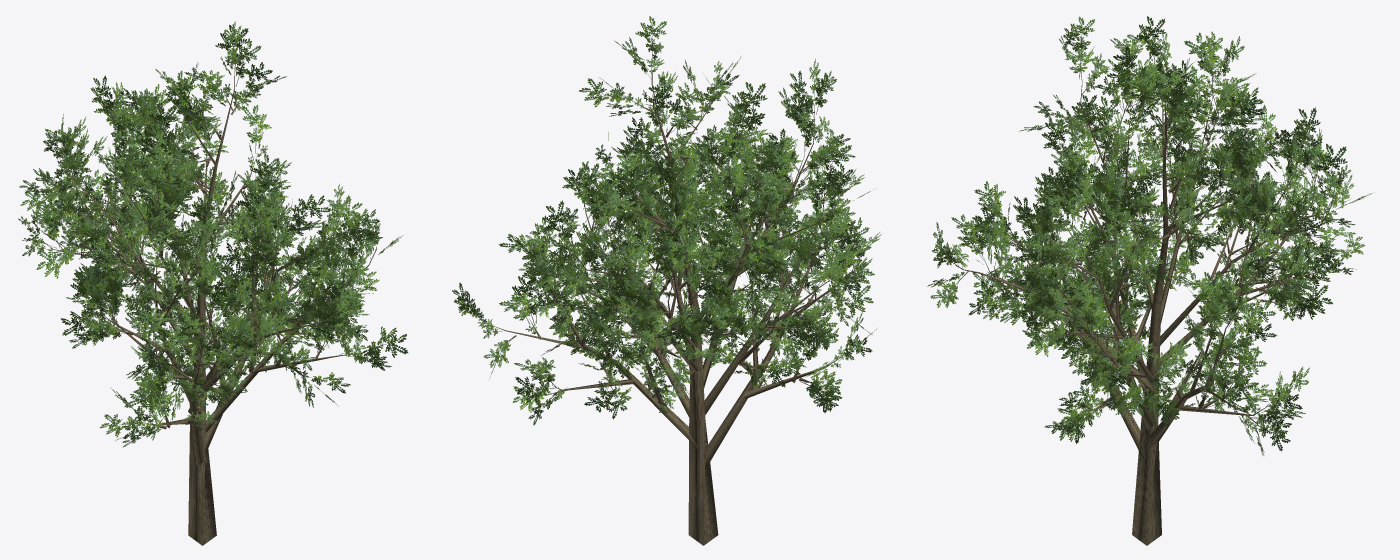
File: tree_LOD2.gltf
3 renders of one model, left to right at view 1: azimuth 30°, elevation 25°; view 2: azimuth 150°, elevation 25°; view 3: azimuth 270°, elevation 25°, orthographic. The views are drawn at different scales.
Visible parts, largest first — view 1: Leaves_LOD2, Branches_LOD2; view 2: Leaves_LOD2, Branches_LOD2; view 3: Leaves_LOD2, Branches_LOD2.
Part boxes in pixels (x1,y1,x2,y2): Leaves_LOD2: [18, 21, 408, 447]; Branches_LOD2: [41, 67, 376, 545]; Leaves_LOD2: [452, 16, 881, 425]; Branches_LOD2: [489, 67, 857, 545]; Leaves_LOD2: [927, 16, 1372, 455]; Branches_LOD2: [954, 60, 1335, 545].
Bounding box in the file's own units: 73.93 × 101 × 80.82.
Materials: 2 (2 with a texture image).
